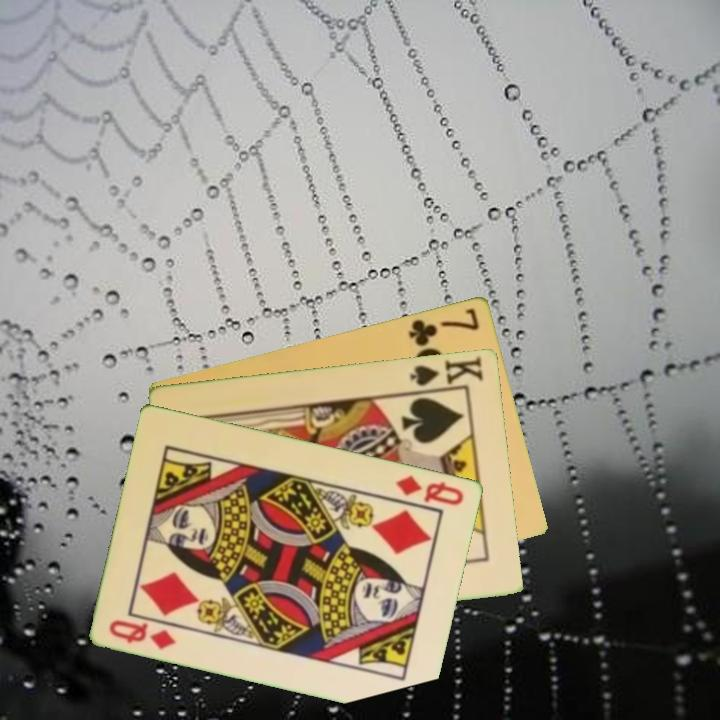7c: (405, 304, 483, 349)
Ks: (406, 352, 487, 395)
Qd: (393, 471, 467, 508), (106, 616, 180, 652)
